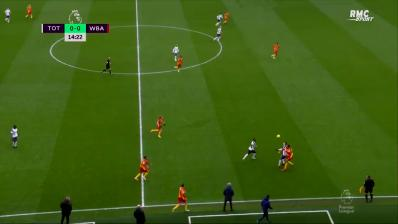football: (275, 133, 282, 140)
player: (171, 180, 193, 214), (239, 136, 262, 164), (132, 155, 152, 183), (150, 115, 166, 139), (8, 124, 22, 149), (277, 142, 289, 169), (286, 144, 297, 173), (173, 55, 187, 73), (270, 40, 282, 61), (212, 24, 224, 44), (170, 43, 179, 61), (25, 3, 34, 20), (4, 7, 12, 25), (214, 12, 224, 26), (224, 9, 232, 24)
referee: (101, 56, 114, 77)
